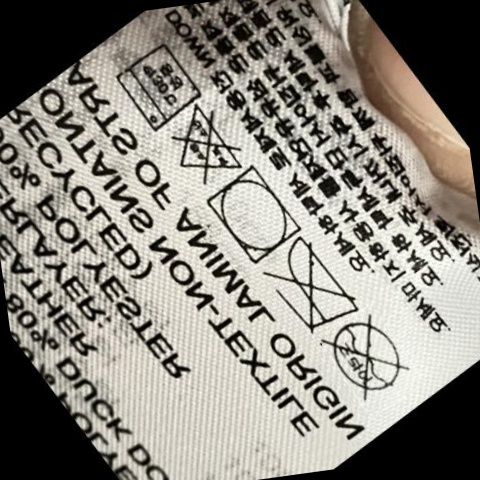30C: (106, 44, 205, 136)
DN_bleach: (164, 103, 248, 185)
DN_dry_clean: (316, 314, 411, 403)
DN_iron: (259, 234, 364, 339)
tumble_dry_normal: (195, 162, 304, 268)
